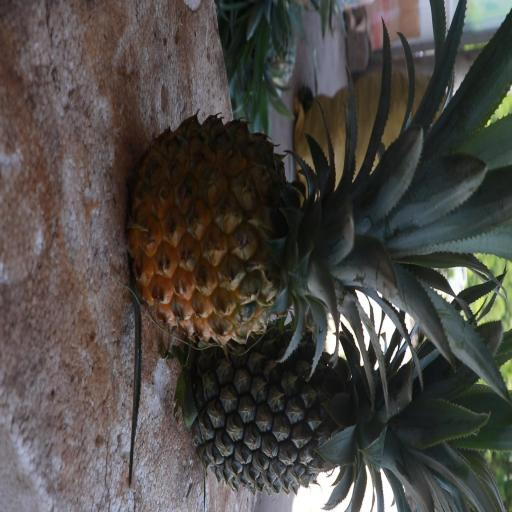Pineapple - v8 v1: (134, 119, 470, 340)
